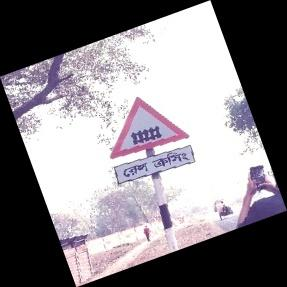Rail-crossing: (108, 97, 194, 188)
